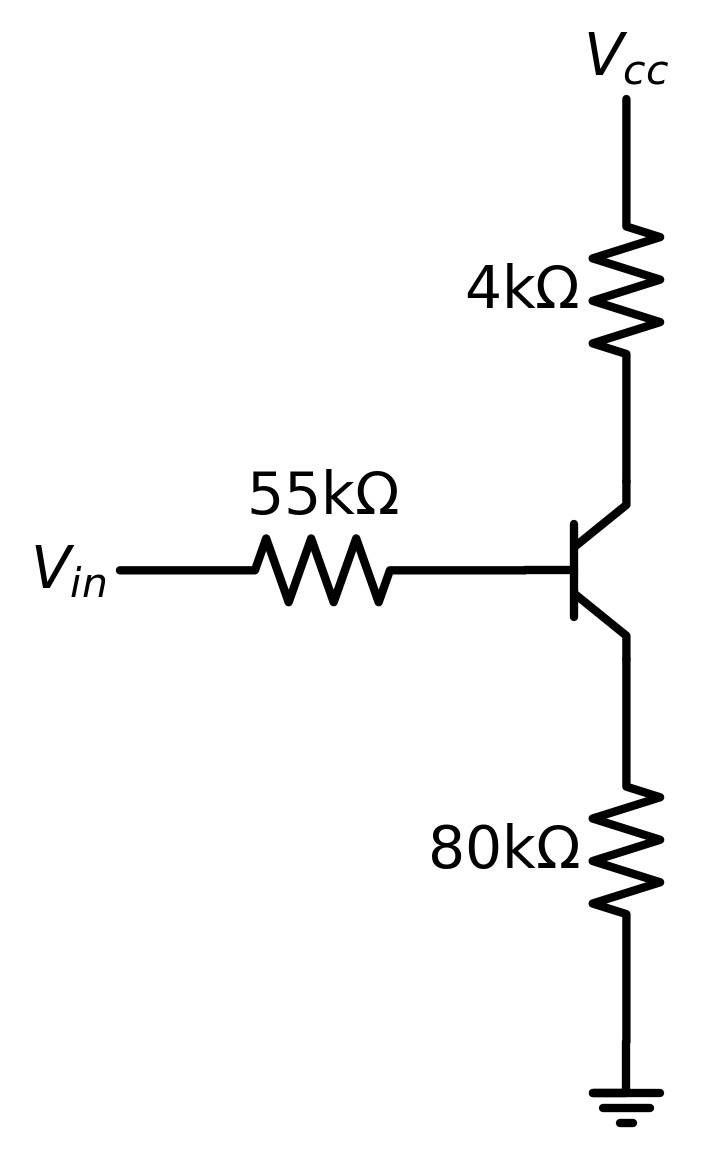bjt: (540, 476, 664, 659)
ground: (582, 1074, 678, 1145)
resistor: (235, 525, 413, 625), (582, 206, 678, 387), (578, 772, 680, 932)
